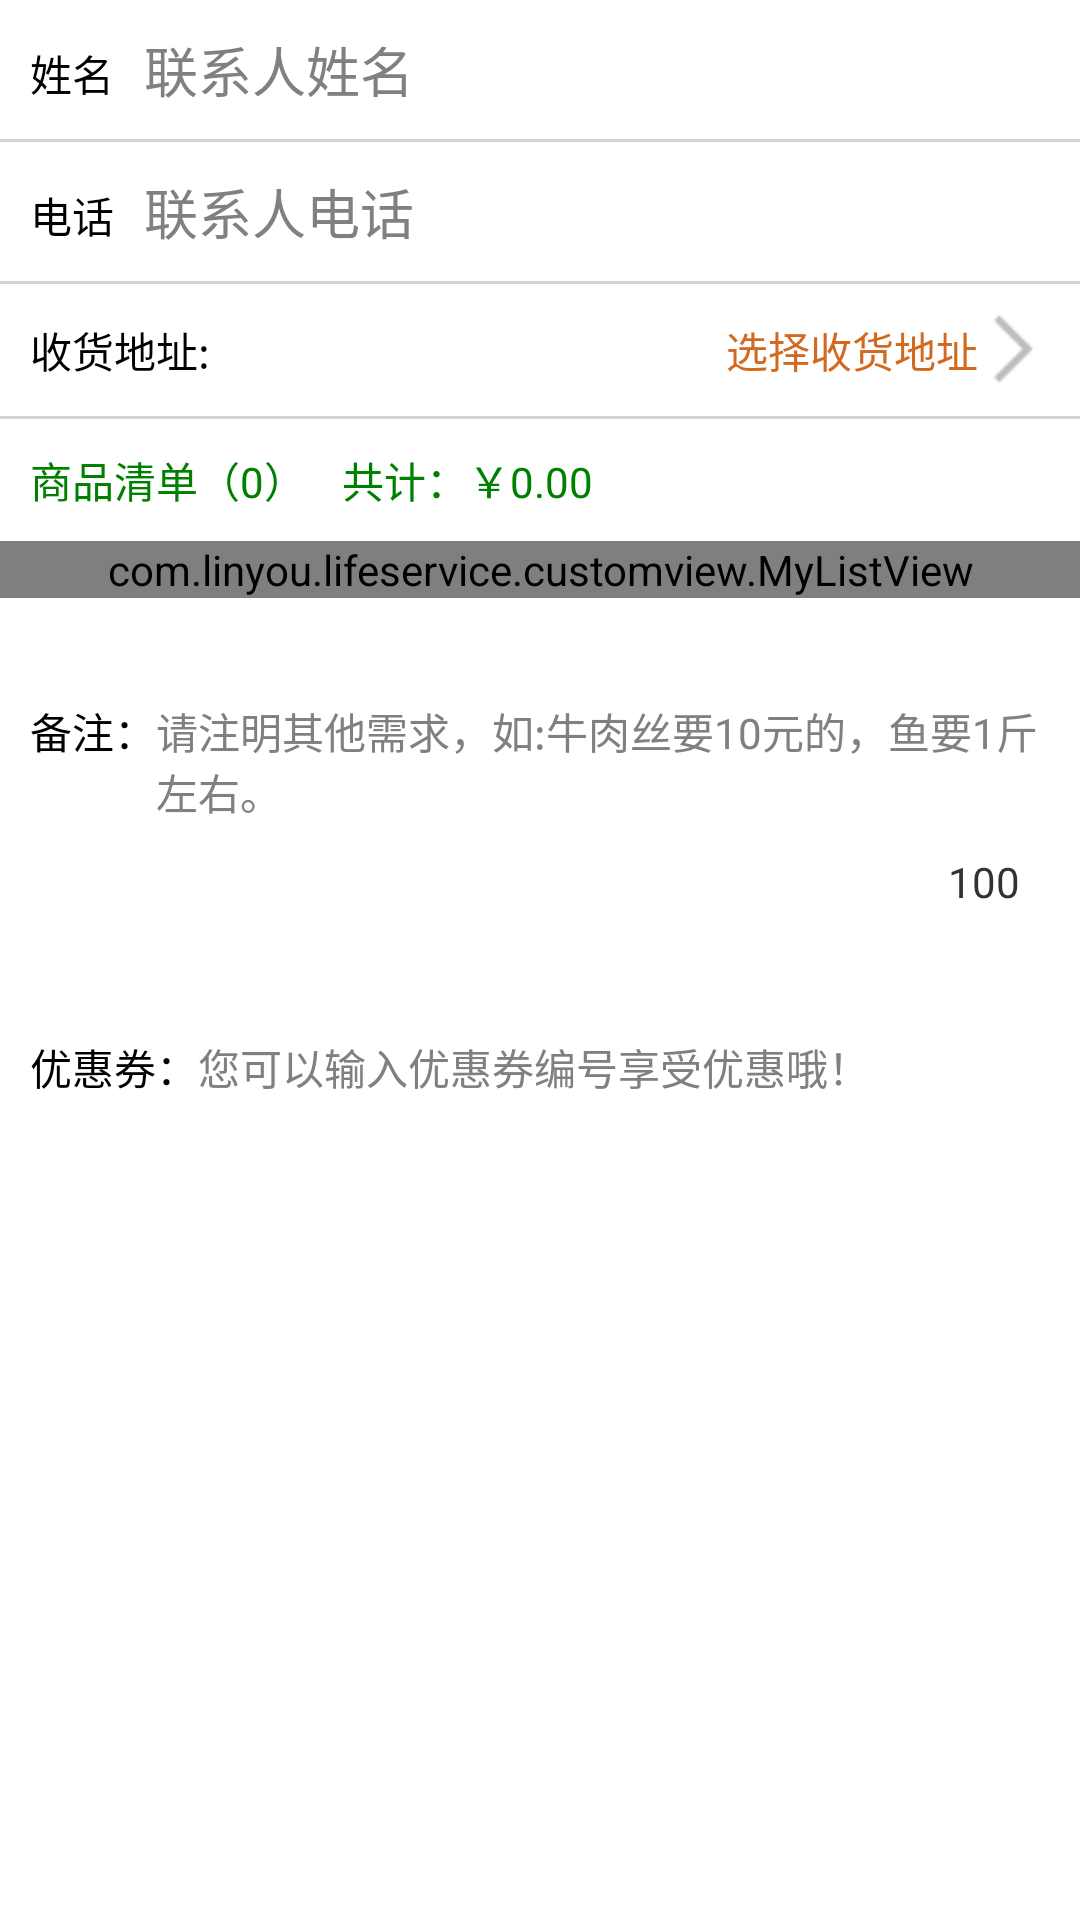

Locate icon controls on the screen. Image size 1080×1920, boxes as box(x1, y1, x2, y2).
arrow right: box(995, 316, 1032, 382)
